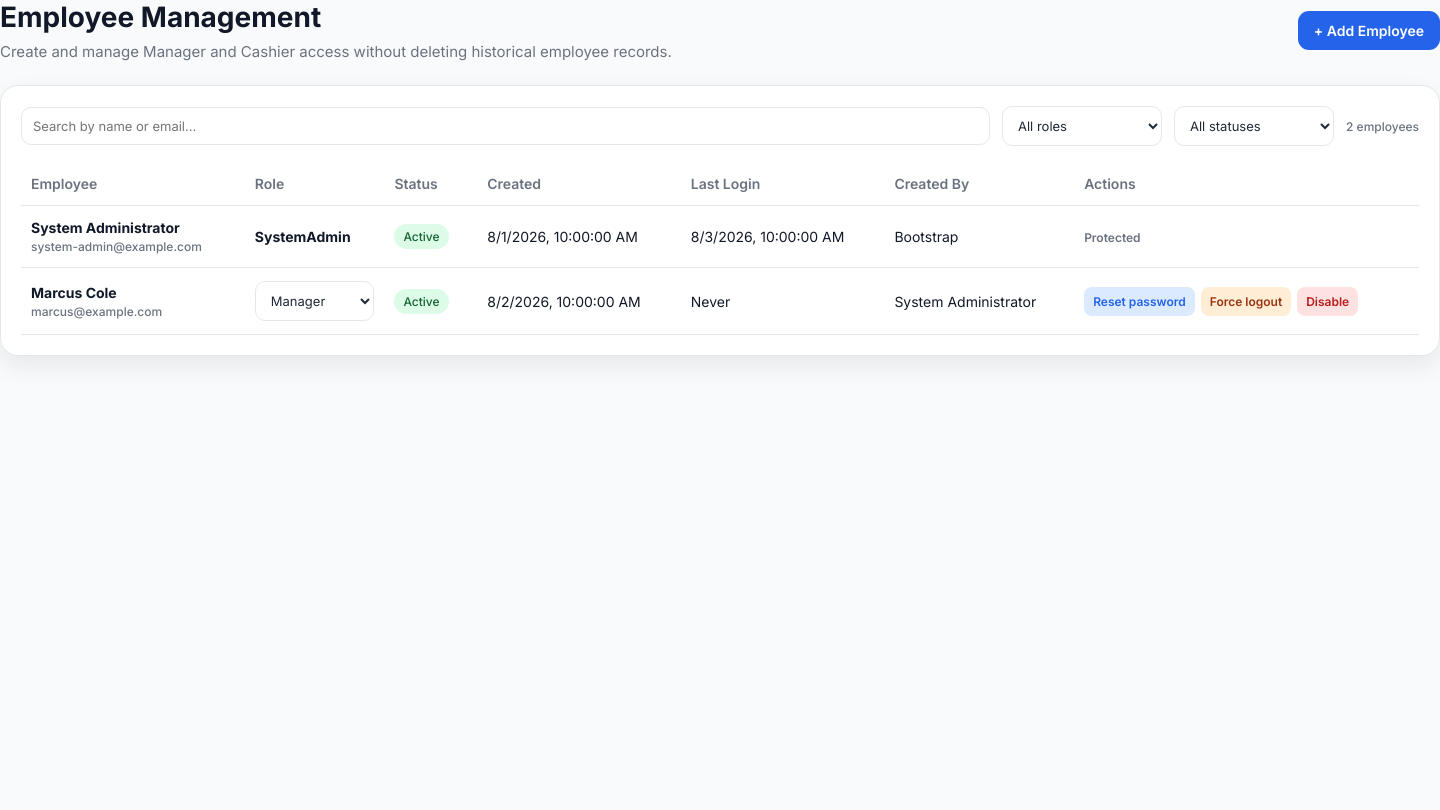
Test case: EmployeeManagement › lets SystemAdmin set a replacement temporary password
Expected: the text "Marcus Cole" is shown, [31,284,117,300]
Step 1. Click the button "Reset password" → (1139, 301), box [1084,286,1195,316]
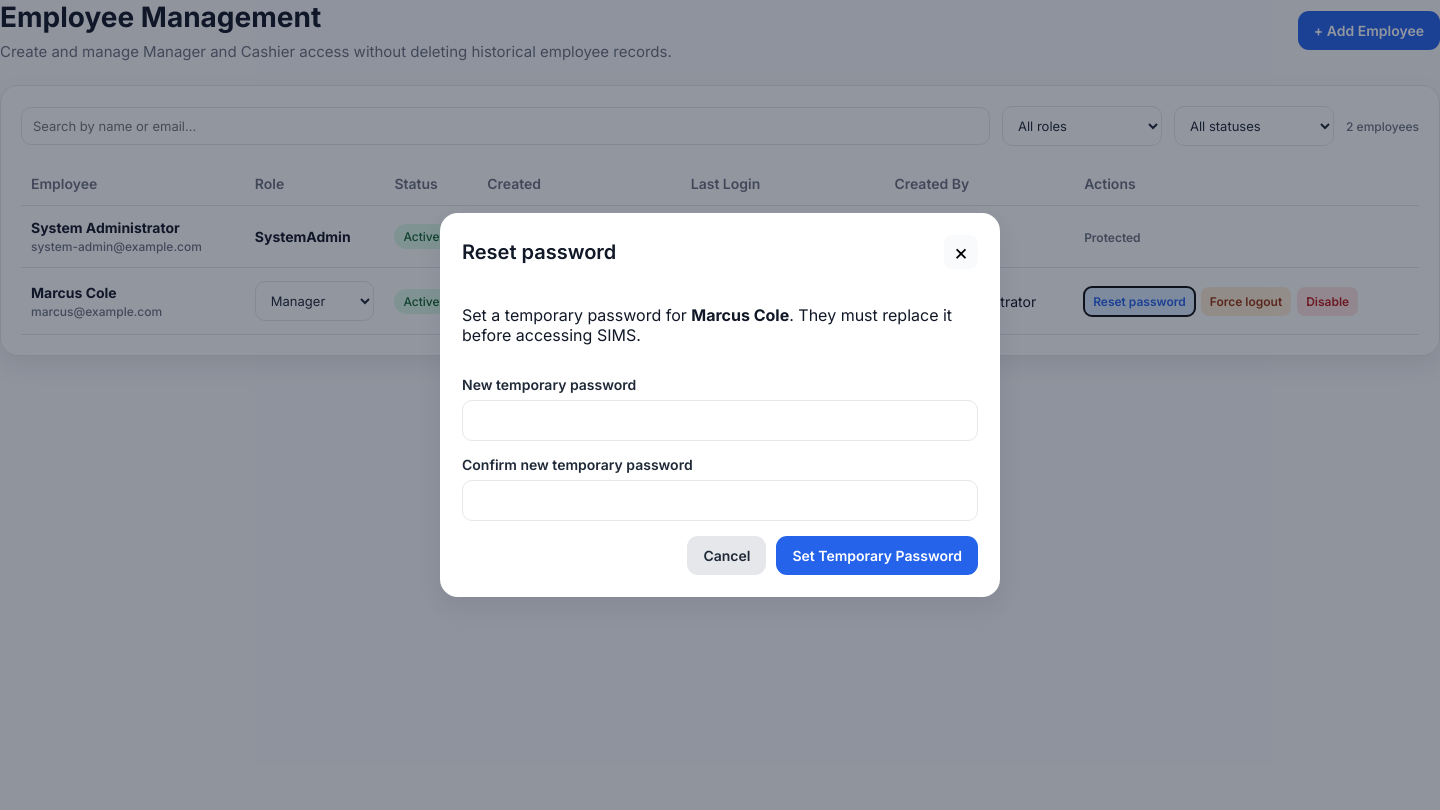
Step 2. Type "Replacement456!" into the password field labelled "New temporary password" → (720, 420), box [462,400,978,441]
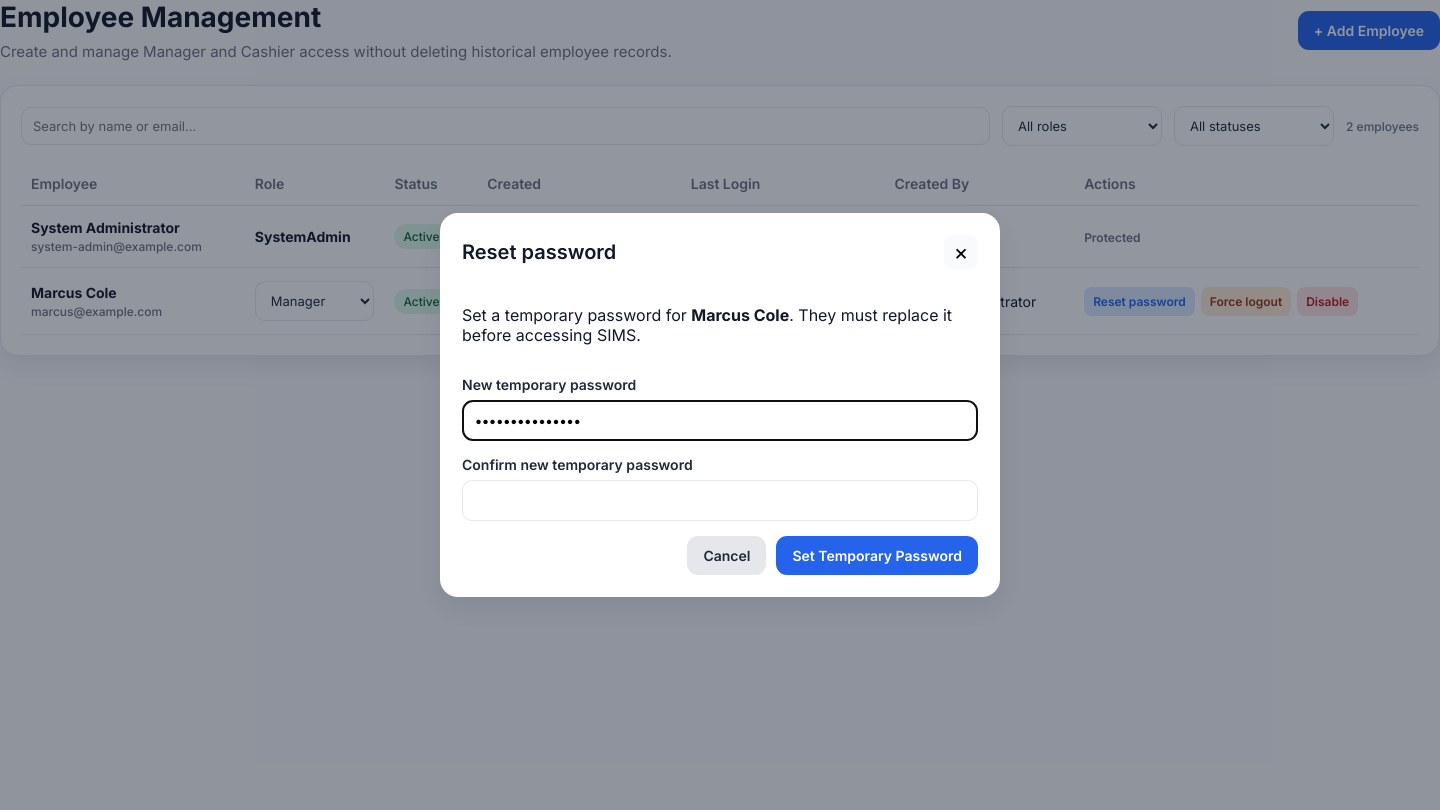
Step 3. Type "Replacement456!" into the password field labelled "Confirm new temporary password" → (720, 500), box [462,480,978,521]
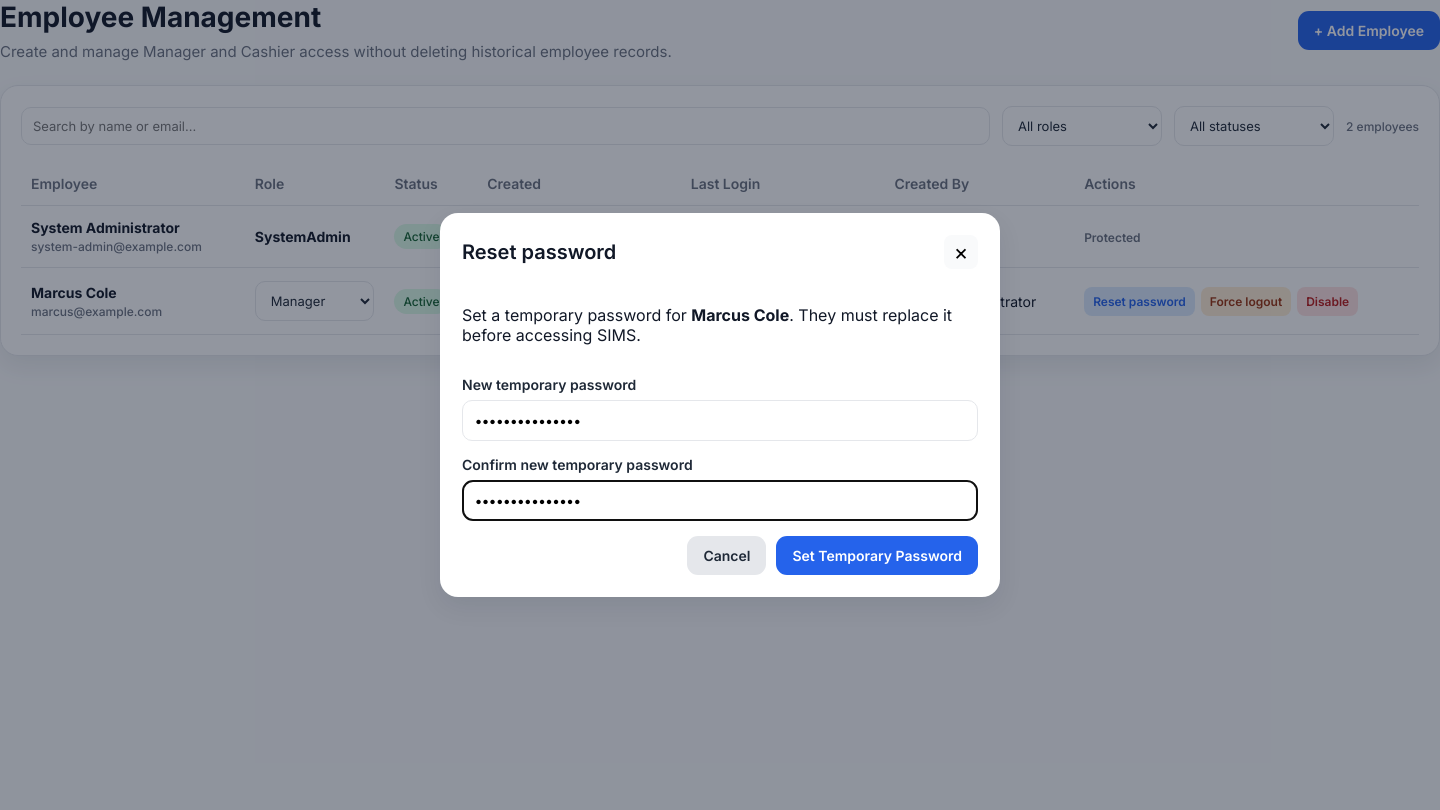
Step 4. Click the button "Set Temporary Password" → (877, 556), box [776,536,978,575]
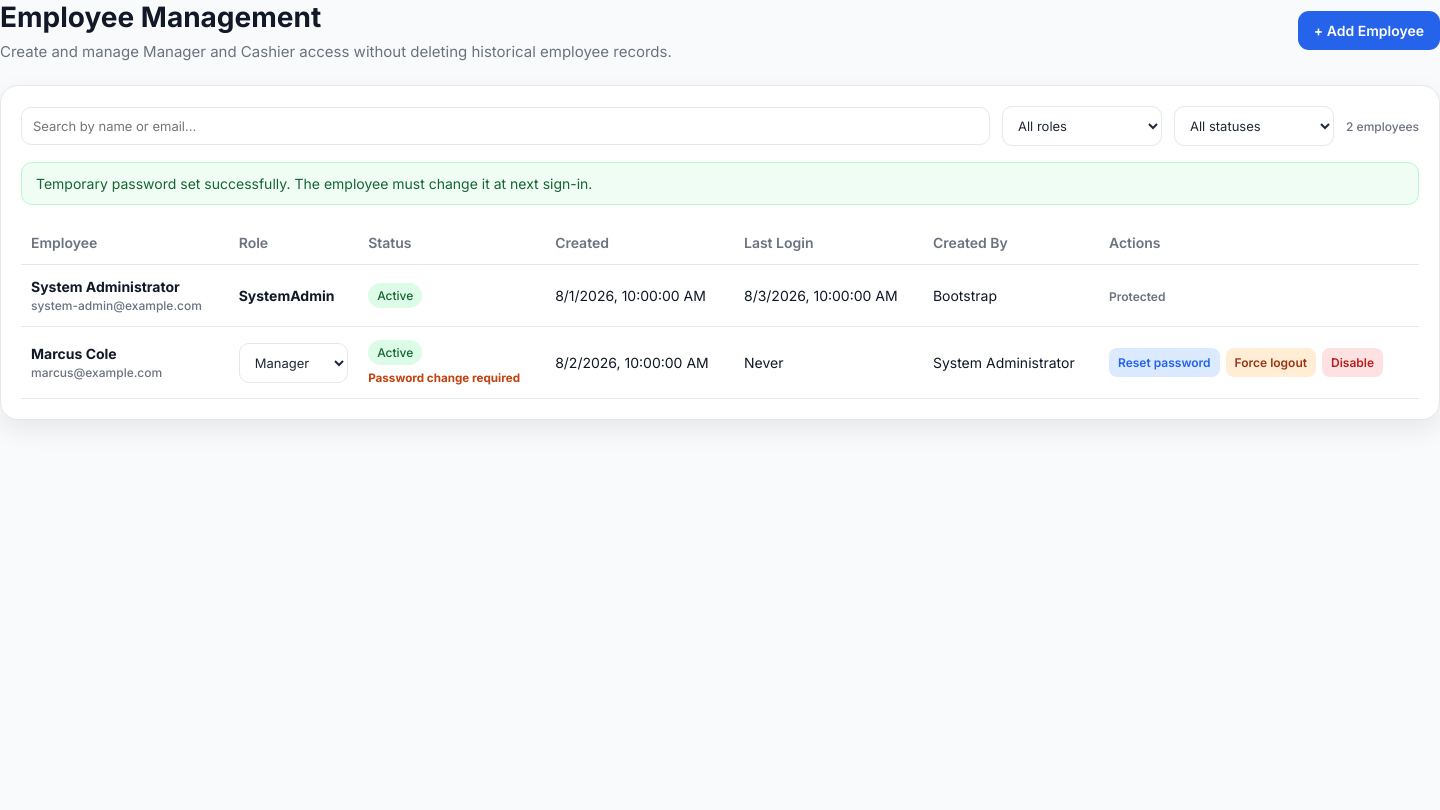
Expected: the text "Password change required" is shown, [368,371,535,385]
